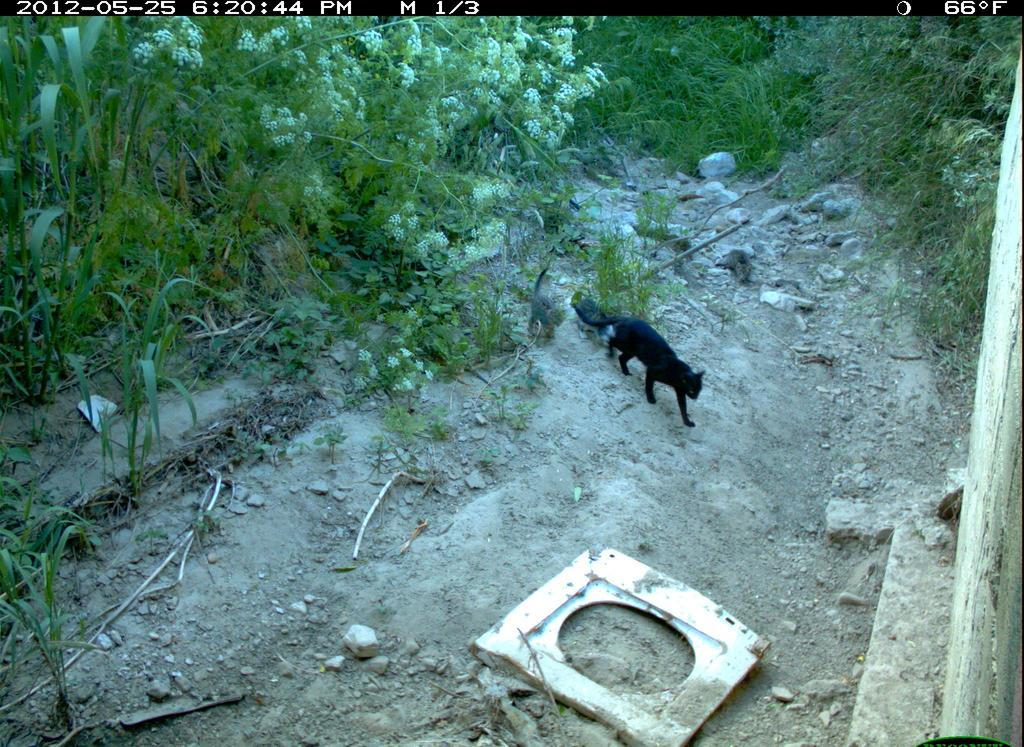cat: (573, 295, 713, 436), (518, 264, 570, 346)
